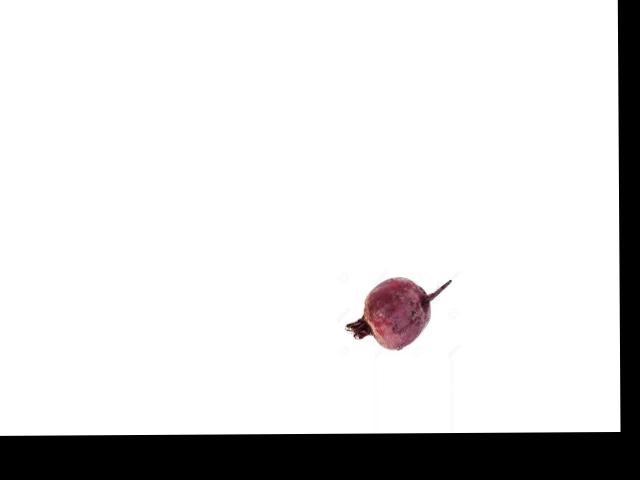beet: (345, 277, 450, 349)
